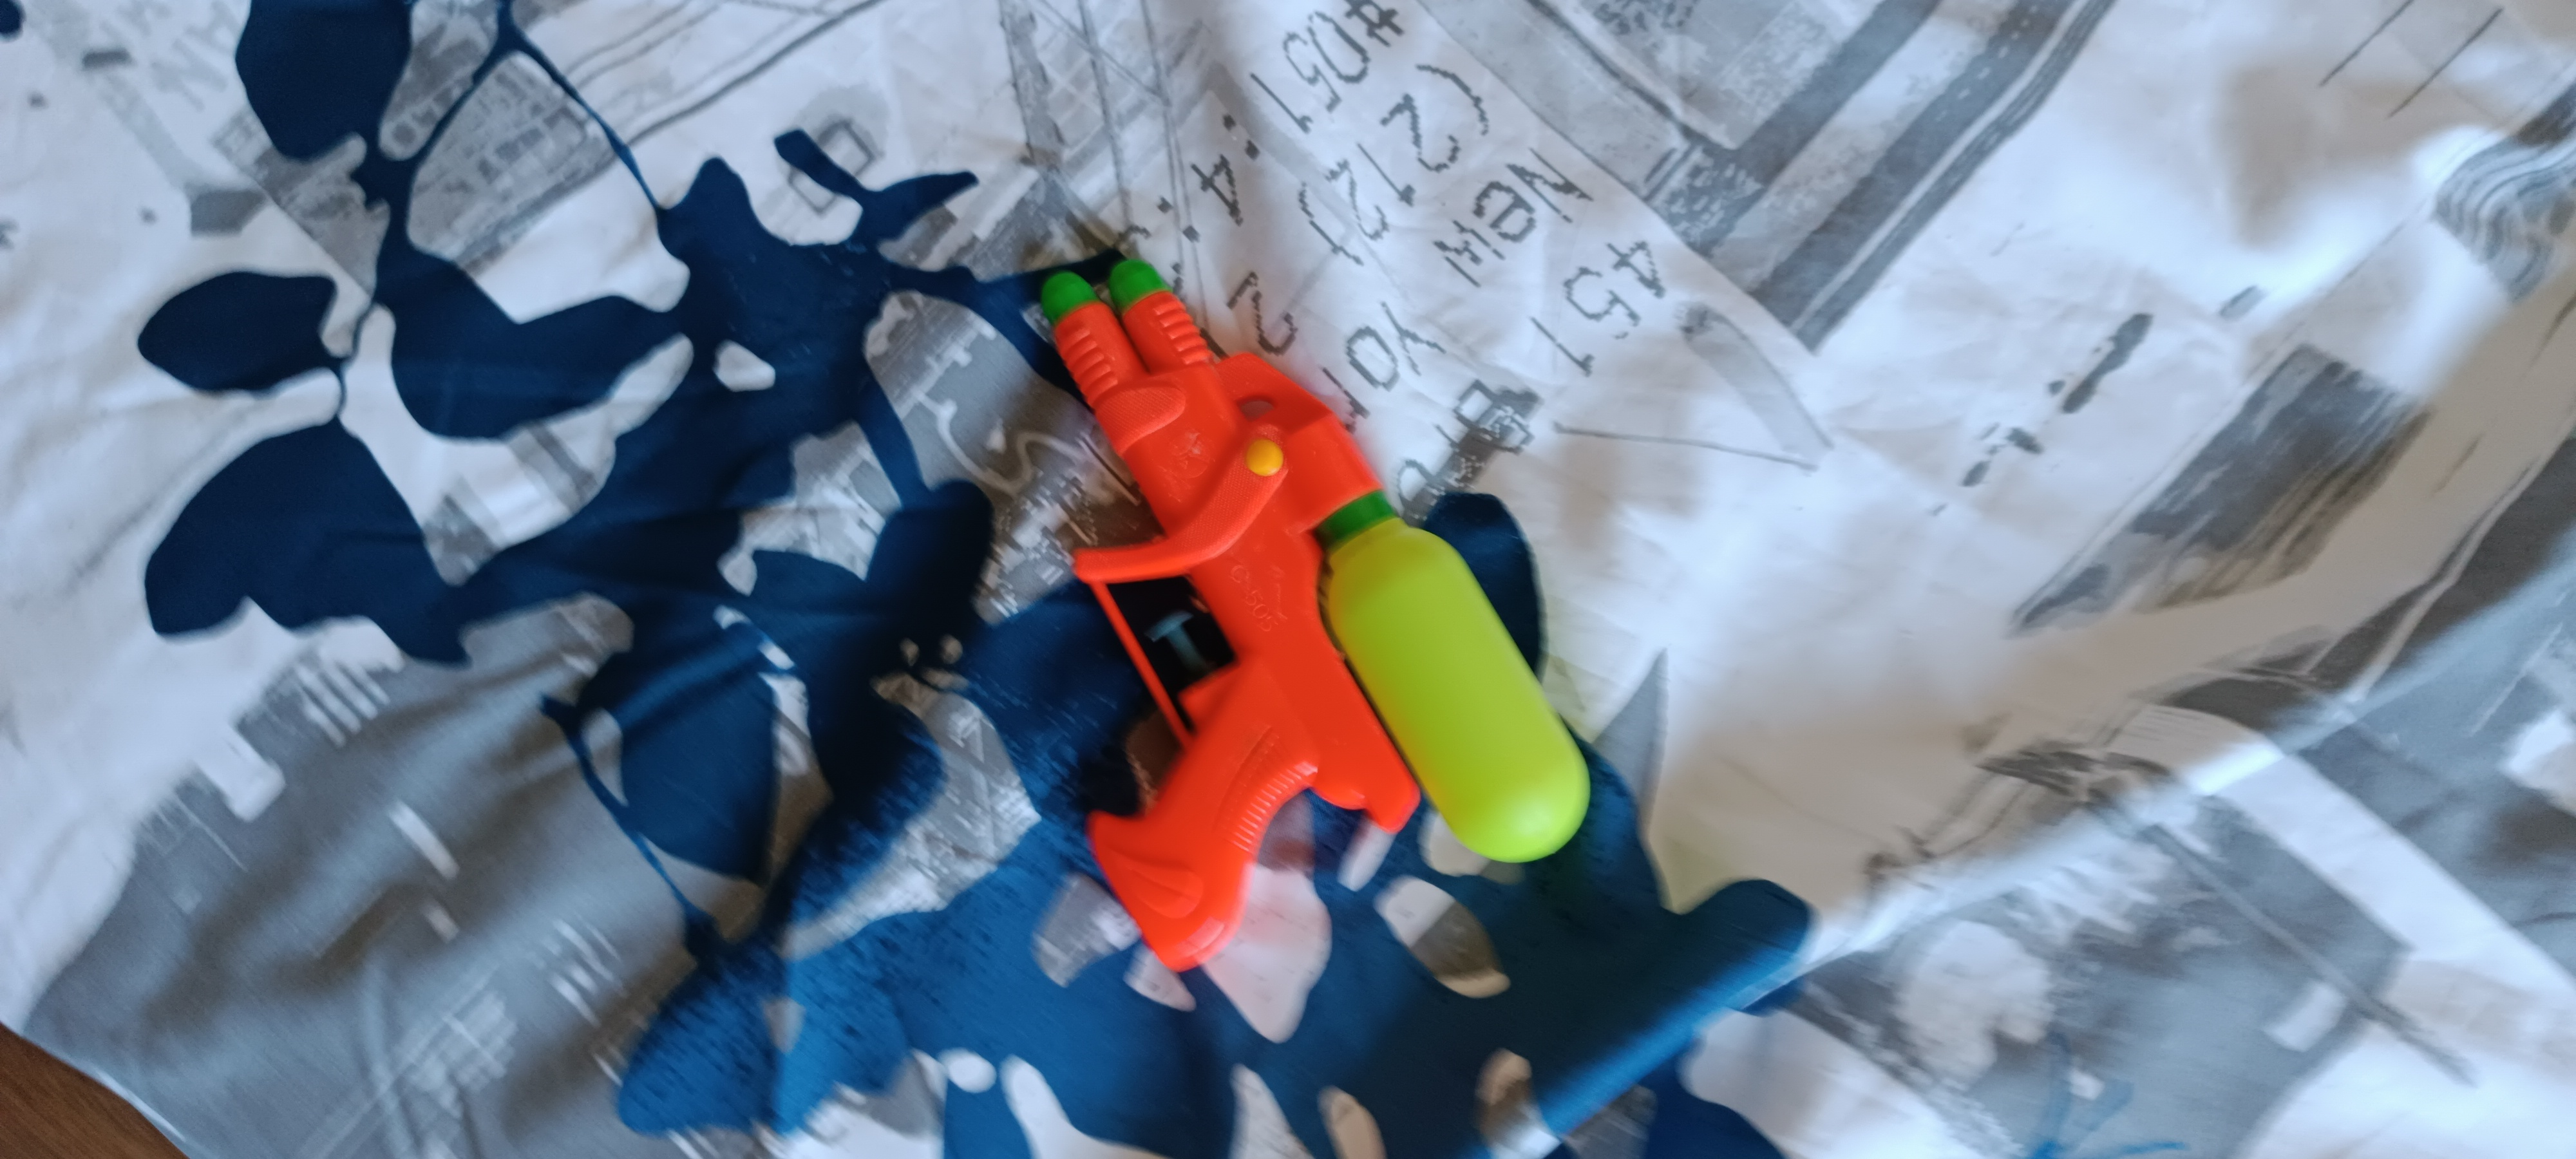Water Gun: (1038, 256, 1594, 972)
